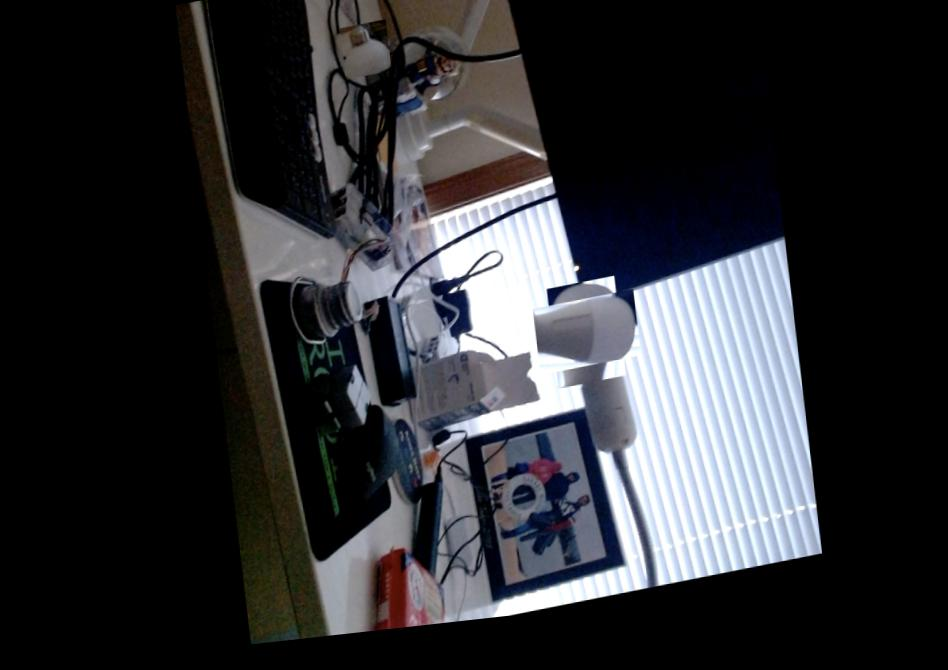Fan: (537, 295, 630, 395), (337, 28, 393, 86)
